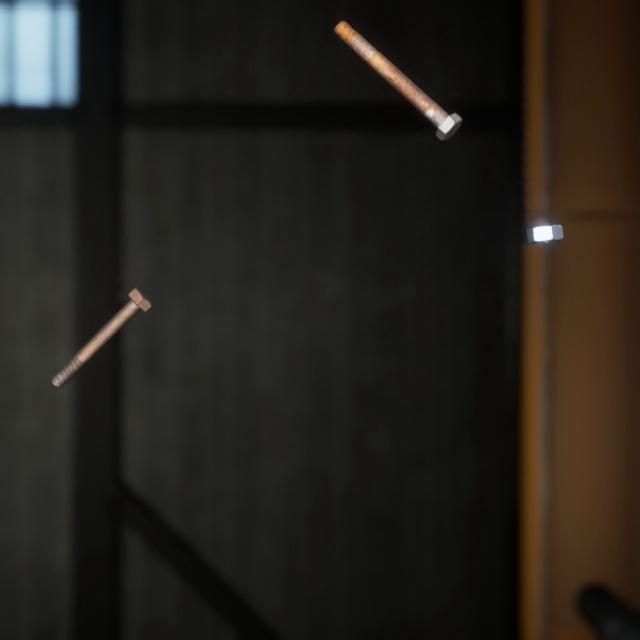bolt: (329, 7, 466, 135), (46, 264, 157, 375)
nut: (521, 204, 567, 232)
